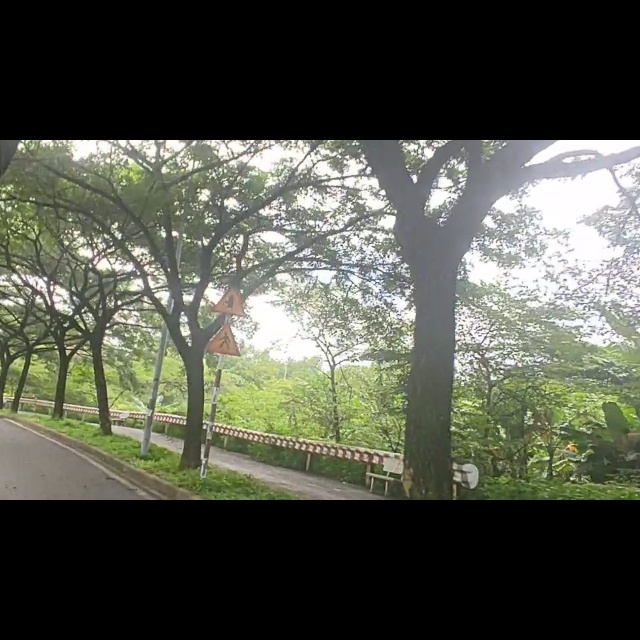bien_nguy_hiem: (204, 324, 254, 391), (208, 257, 251, 314)
